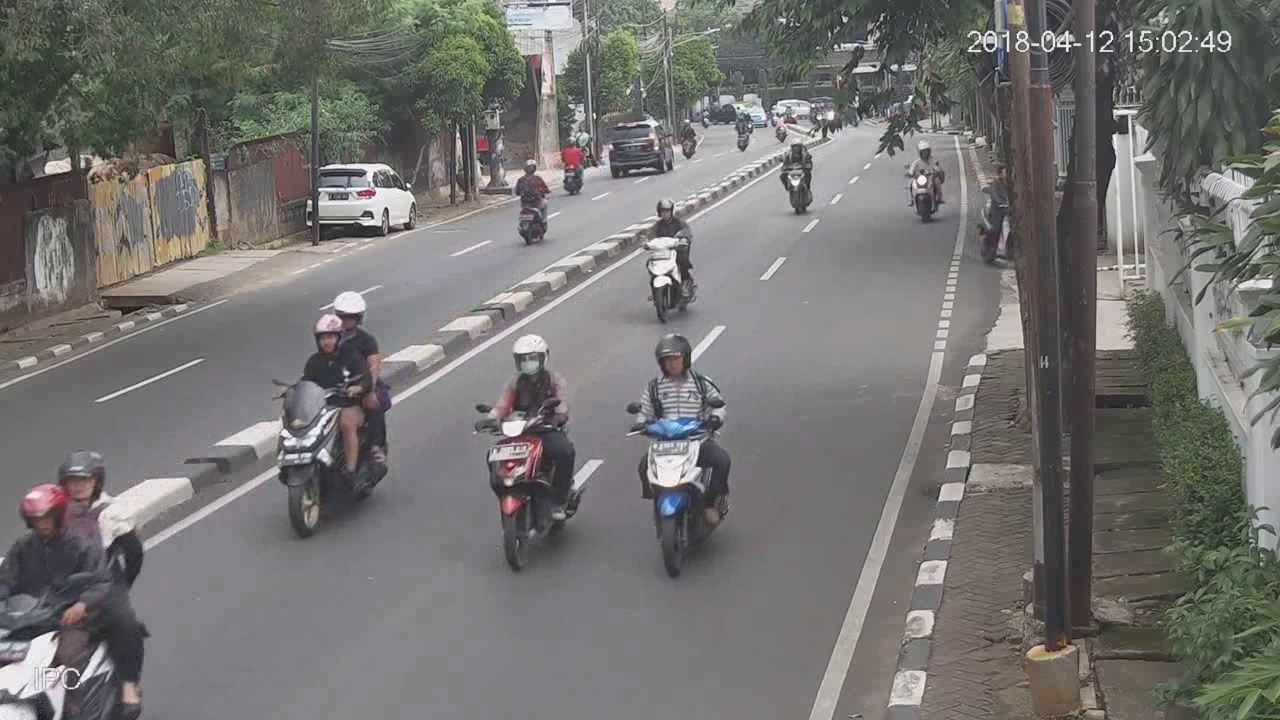car: (303, 154, 420, 242), (603, 118, 678, 178)
motorcycle: (1, 454, 155, 715), (269, 291, 393, 537), (624, 330, 741, 584), (477, 332, 584, 574), (645, 193, 700, 327), (508, 151, 555, 250), (899, 134, 949, 227), (776, 134, 818, 216), (562, 132, 587, 199)
